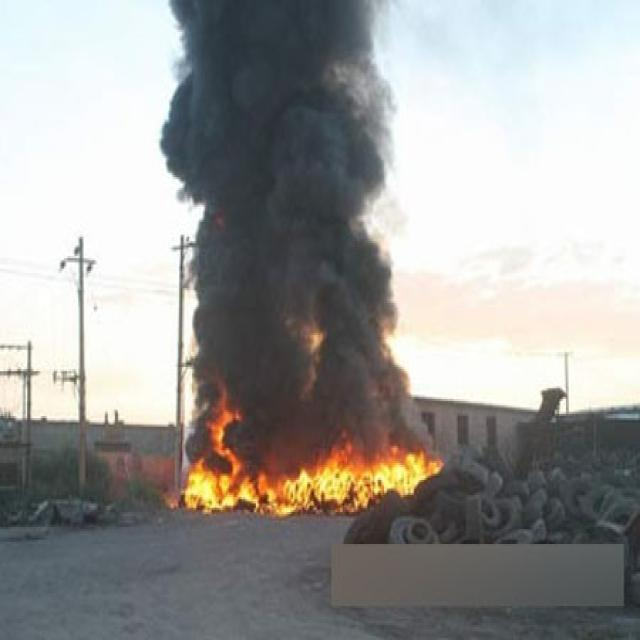Fire: (184, 388, 446, 521)
Smoke: (160, 2, 412, 388), (242, 390, 413, 446)
